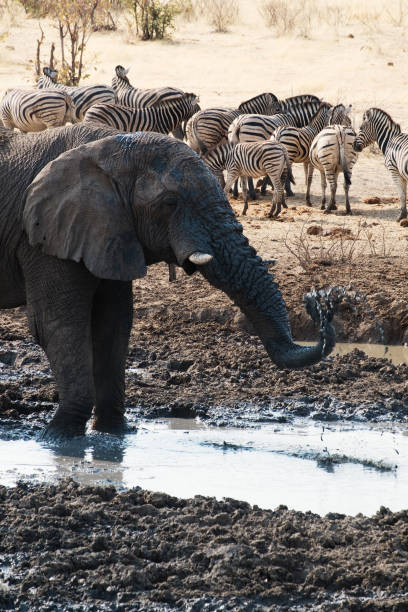africanelephant: (66, 116, 334, 379)
